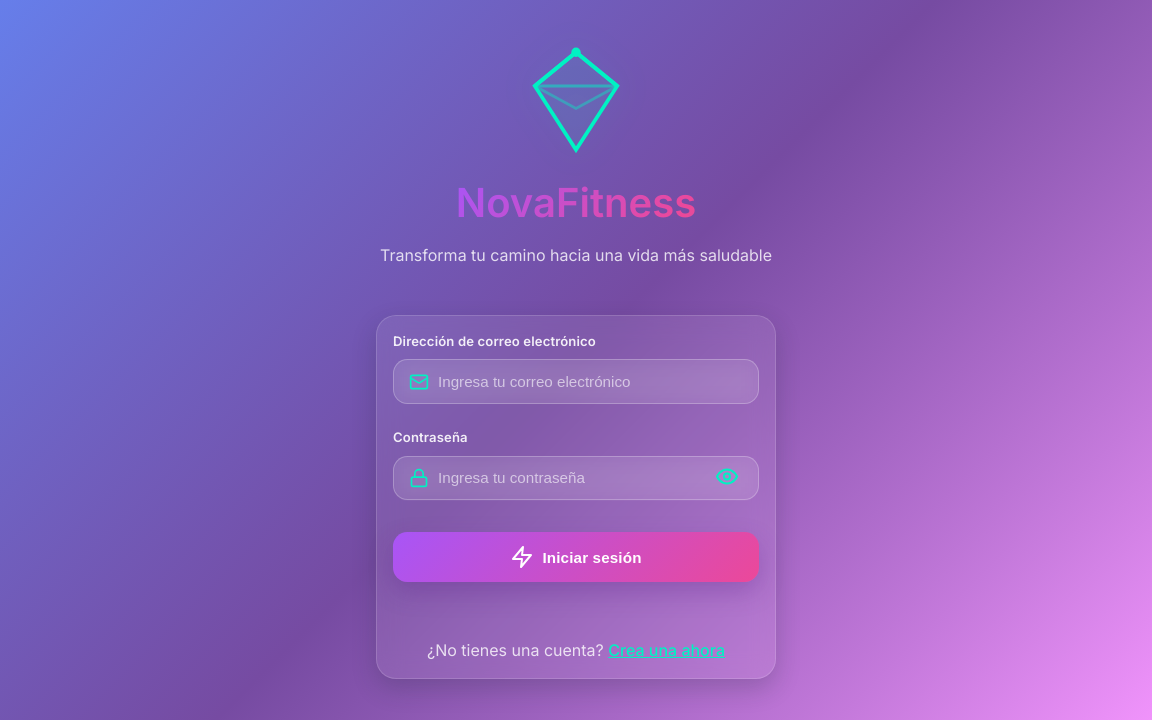
it: Login Page - Regression Tests › handles authentication error
The width and height of the screenshot is (1152, 720).
Type "test@example.com" into the field labelled "Dirección de correo electrónico".
click(576, 382); type("test@example.com")  # box [393,359,759,404]
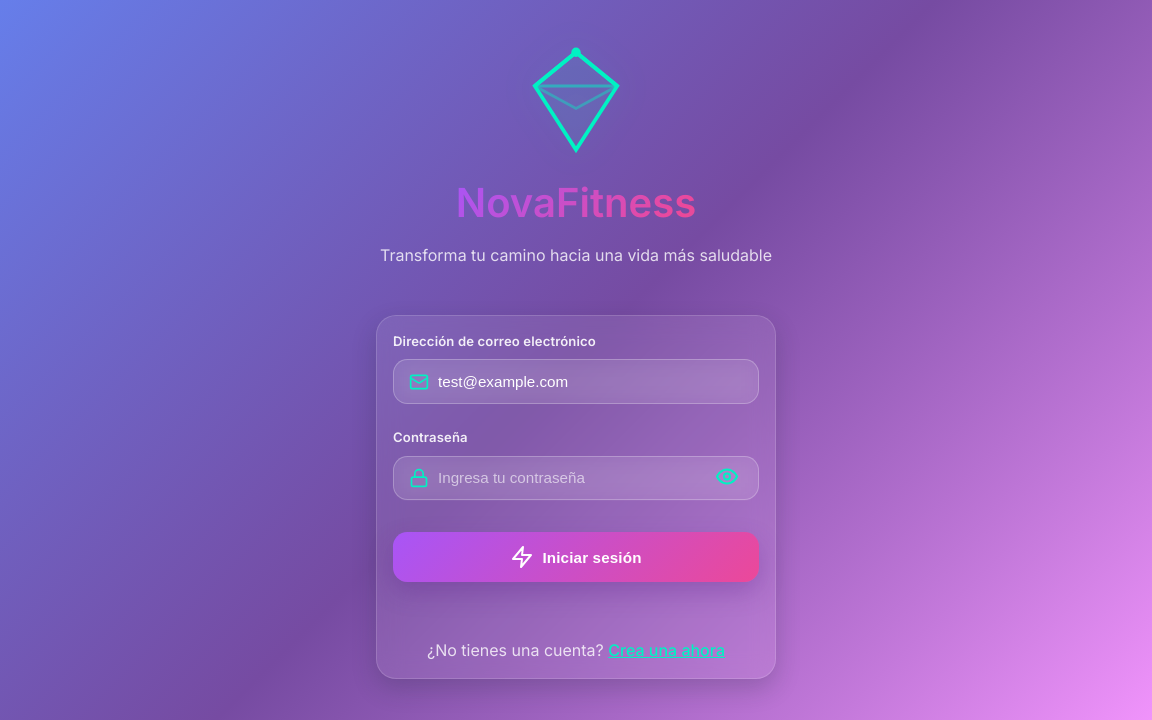
Type "wrongpassword" into the password field labelled "Contraseña".
click(576, 478); type("wrongpassword")  # box [393,456,759,500]
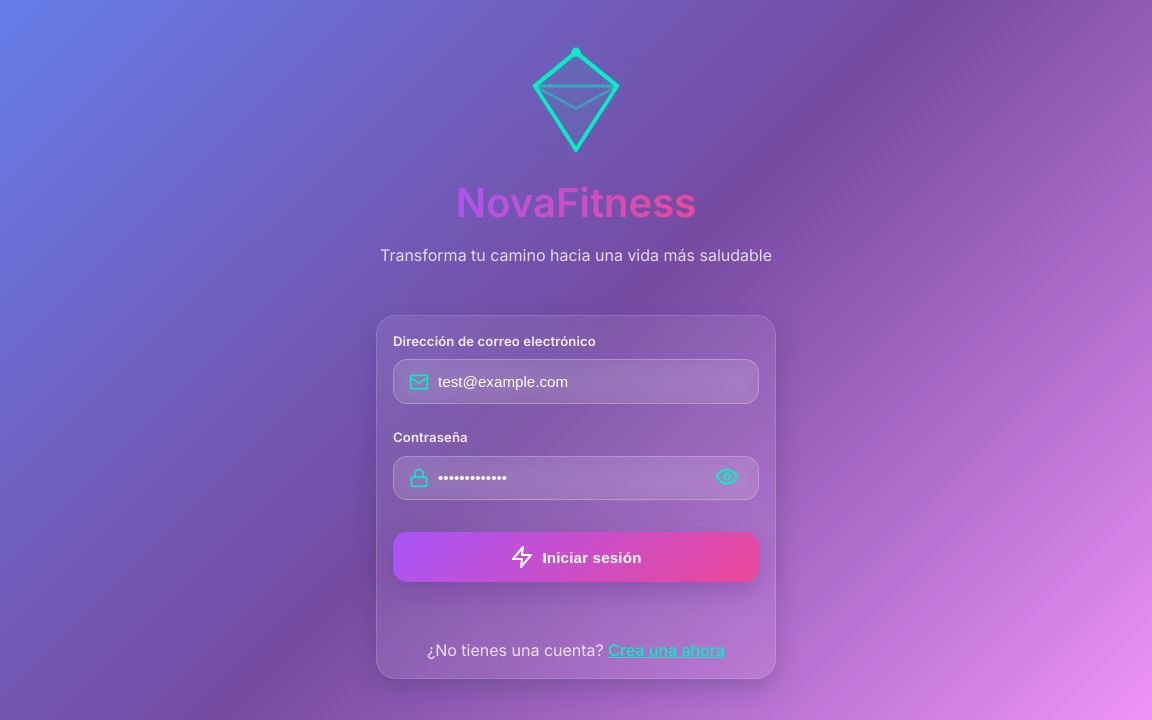
Click the button "Iniciar sesión".
click(576, 557)  # box [393,532,759,582]
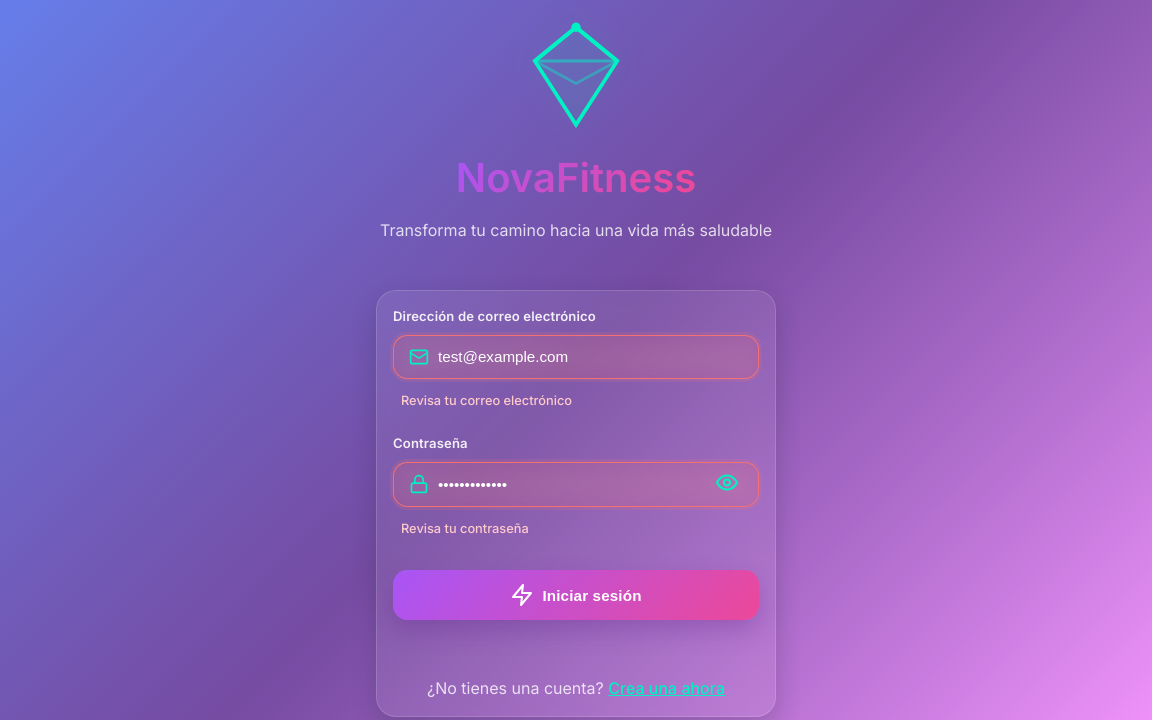
Result: the text "Revisa tu correo electrónico" is shown at [401,393,572,408]
Result: the text "Revisa tu contraseña" is shown at [401,521,529,536]
